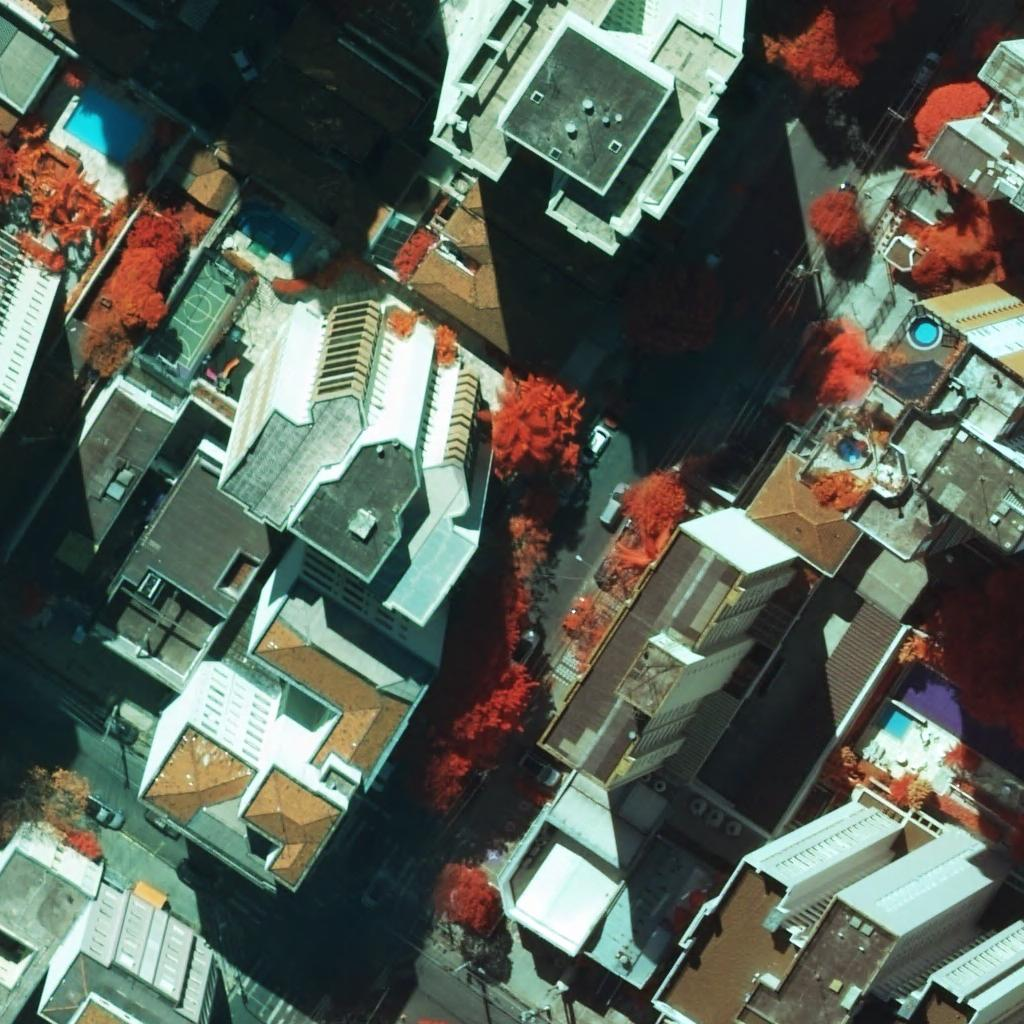pool: (894, 662, 1024, 780), (62, 87, 147, 166), (230, 202, 312, 265), (877, 704, 914, 740), (910, 316, 939, 347)
